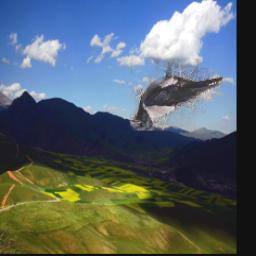Crow: (130, 58, 223, 131)
